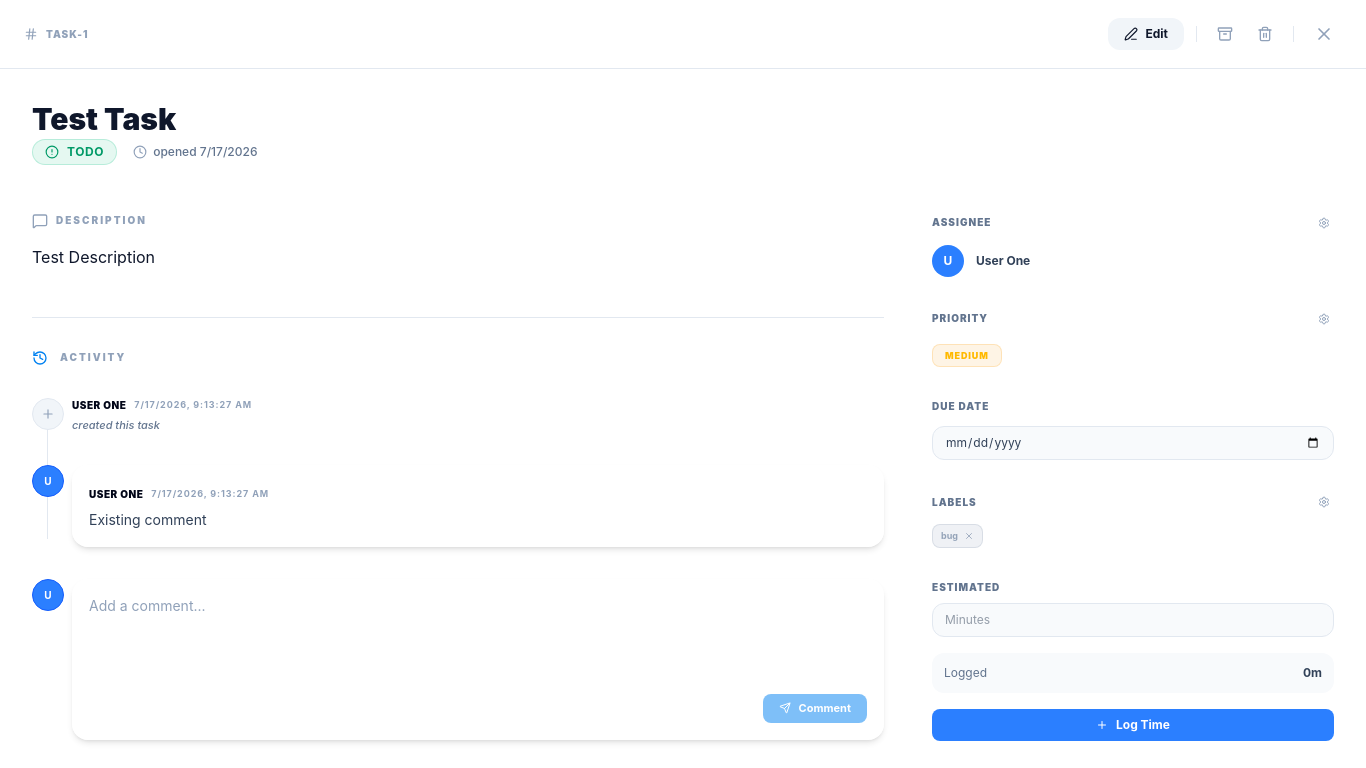
Scenario: TaskViewer › Status Dropdown › should show status dropdown when clicking status badge
This screenshot has width=1366, height=768.
# Click the status badge - use first occurrence (the badge itself)
Click the text "Todo".
click(75, 152)  # box 32,138 -> 117,164
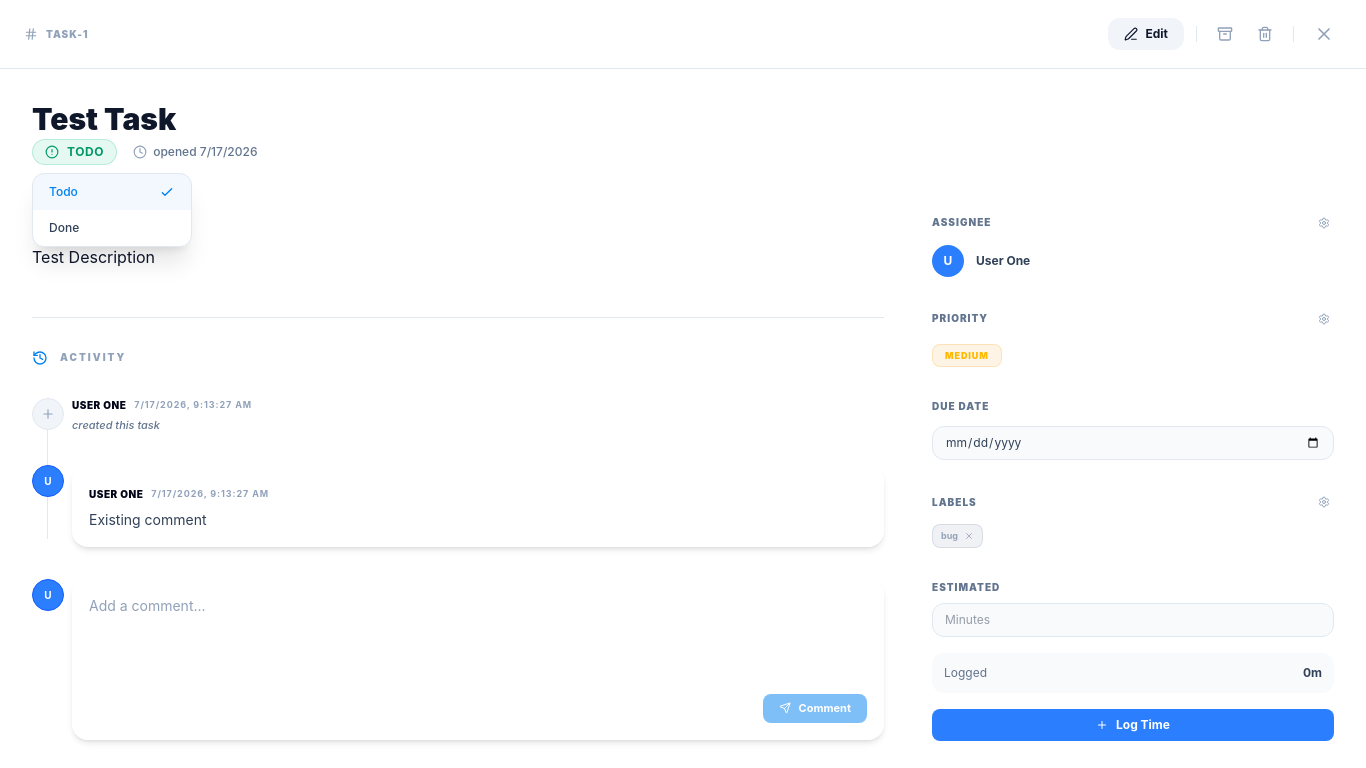
Expected: the button "Done" is shown, 33,210 -> 191,246
